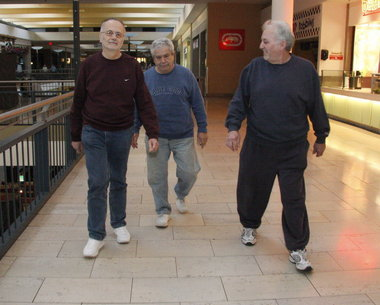Person: (235, 19, 327, 269), (79, 19, 144, 259), (144, 42, 209, 223)
